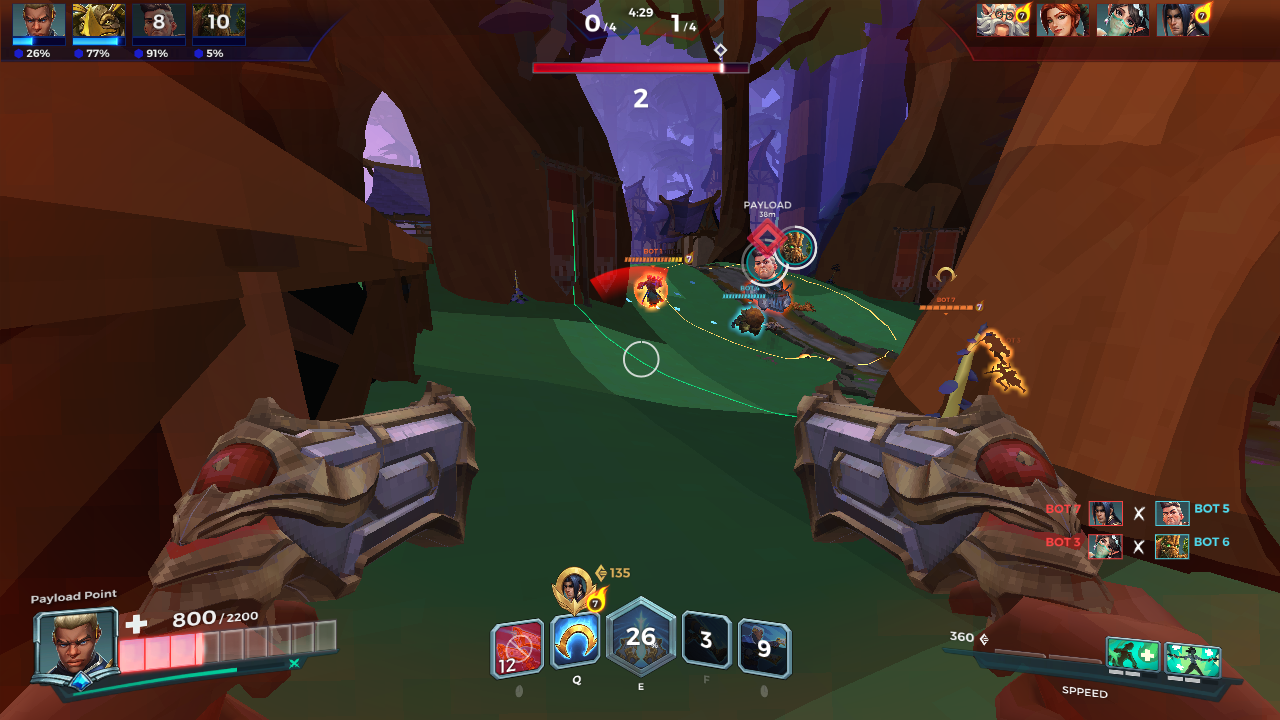model: (973, 327, 1015, 365), (993, 359, 1026, 398), (638, 270, 668, 308)
